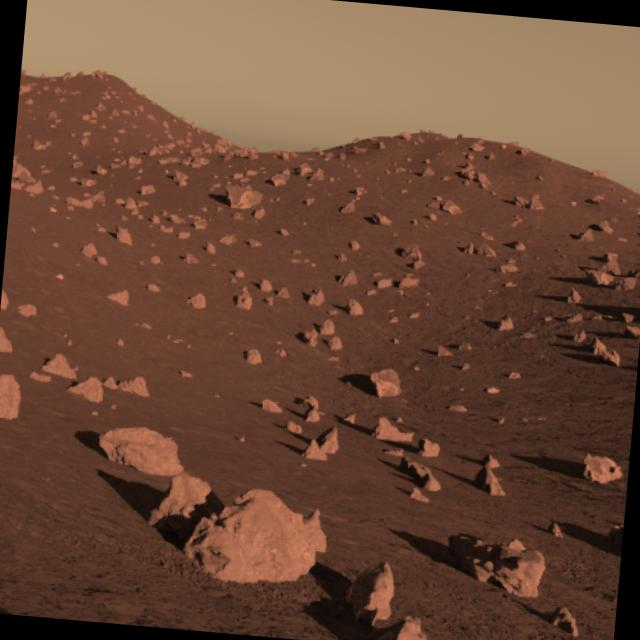rock: (175, 482, 331, 597), (82, 421, 191, 480), (464, 531, 552, 600), (351, 548, 406, 636), (573, 446, 630, 488), (362, 358, 404, 406), (0, 365, 31, 427)
